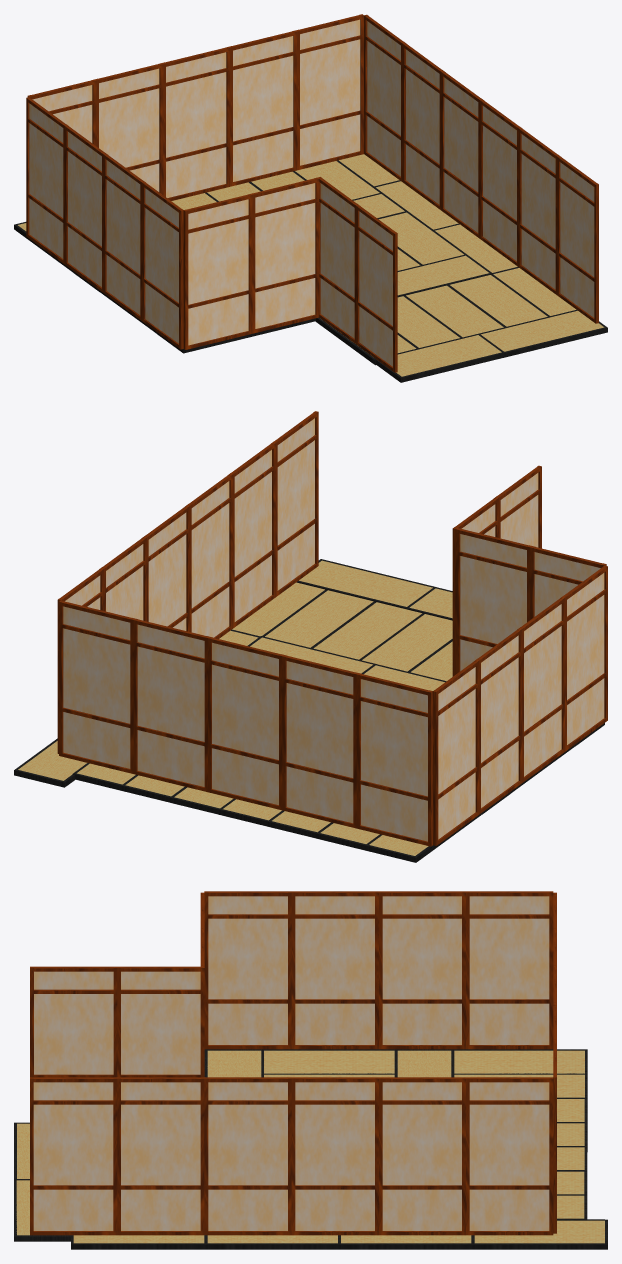
File: first_room_improved.glb
3 views of the same model, one above another, from view 1: azimuth 30°, elevation 25°; view 2: azimuth 150°, elevation 25°; view 3: azimuth 270°, elevation 25° (orthographic). The views are drawn at different scales.
Parts seen in each view (by area): view 1: wall.005, wall.006, wall.010, wall.009, wall.008, wall.007, wall.001, wall.016, wall.018, wall.017, wall, wall.013 (+21 smaller); view 2: wall.004, wall.007, wall.010, wall.008, wall.009, wall.006, wall.003, Cube.003, wall.017, wall.018, wall.002, wall.001 (+18 smaller); view 3: wall.012, wall, wall.001, wall.003, wall.011, wall.014, wall.017, wall.018, wall.013, wall.002, wall.015, wall.016 (+11 smaller).
Boxes of the visible parts, <box> form: wall.005: <box>183,194,252,349</box>; wall.006: <box>251,177,319,333</box>; wall.010: <box>295,14,363,170</box>; wall.009: <box>229,30,296,186</box>; wall.008: <box>162,47,229,200</box>; wall.007: <box>95,63,163,194</box>; wall.001: <box>142,182,183,349</box>; wall.016: <box>356,205,397,372</box>; wall.018: <box>557,156,598,323</box>; wall.017: <box>518,128,559,294</box>; wall: <box>103,153,144,320</box>; wall.013: <box>402,43,443,210</box>; wall.004: <box>356,673,432,846</box>; wall.007: <box>282,655,357,828</box>; wall.010: <box>59,600,134,773</box>; wall.008: <box>208,637,283,810</box>; wall.009: <box>133,618,209,792</box>; wall.006: <box>456,528,531,674</box>; wall.003: <box>433,660,479,845</box>; Cube.003: <box>72,763,481,862</box>; wall.017: <box>230,442,275,628</box>; wall.018: <box>272,411,318,596</box>; wall.002: <box>476,628,522,814</box>; wall.001: <box>562,565,607,751</box>; wall.012: <box>204,1077,291,1235</box>; wall: <box>291,891,378,1049</box>; wall.001: <box>204,891,291,1049</box>; wall.003: <box>466,891,553,1049</box>; wall.011: <box>291,1077,378,1235</box>; wall.014: <box>466,1077,553,1235</box>; wall.017: <box>117,1077,204,1235</box>; wall.018: <box>30,1077,117,1235</box>; wall.013: <box>378,1077,465,1235</box>; wall.002: <box>378,891,465,1049</box>; wall.015: <box>117,966,204,1077</box>; wall.016: <box>30,966,117,1077</box>.
Size of the model in its own units: 48.3 by 18.7 by 61.88.
4 materials, 4 textured.
